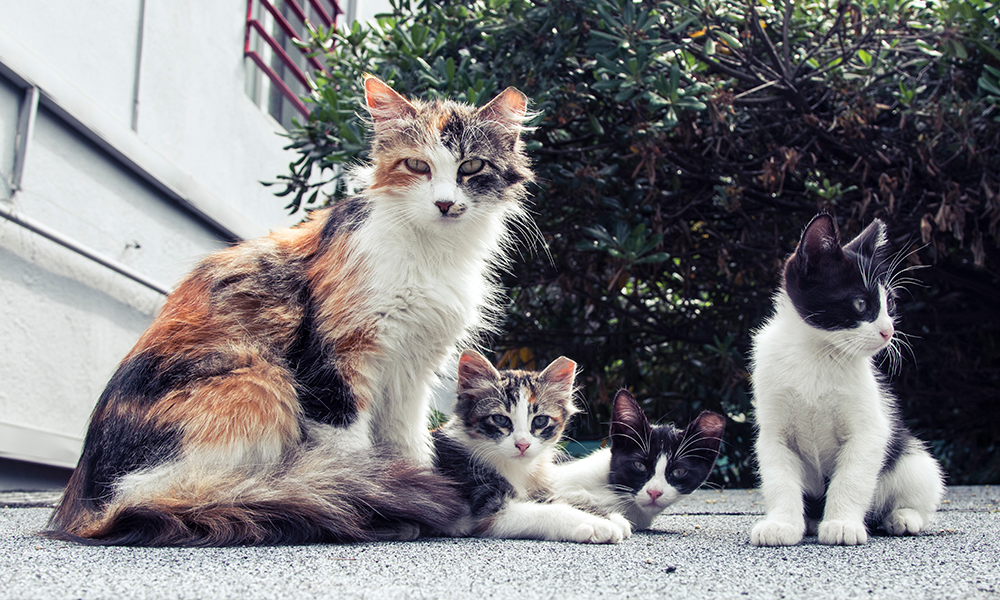Cat: (39, 64, 551, 563), (746, 198, 954, 546), (602, 390, 742, 517), (453, 338, 572, 477)
